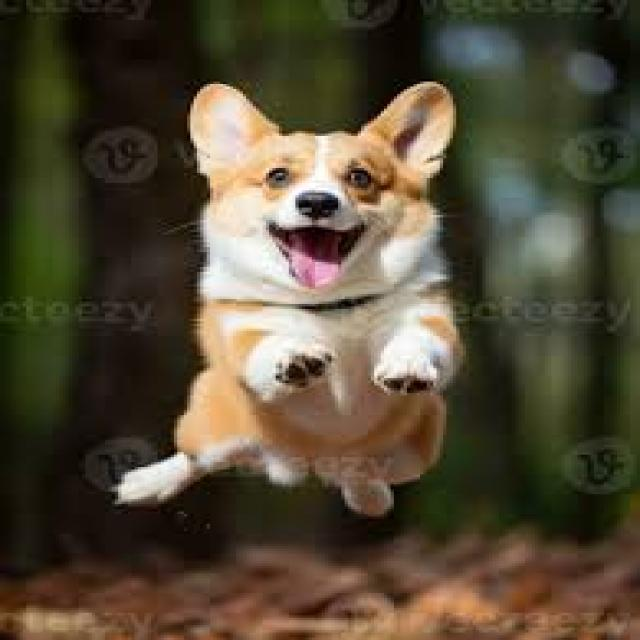CORGI: (99, 74, 496, 521)
